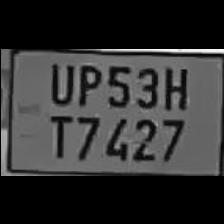2: (128, 113, 156, 161)
3: (131, 61, 159, 109)
4: (100, 110, 128, 162)
5: (102, 58, 132, 106)
7: (70, 110, 98, 162), (155, 113, 184, 163)
H: (158, 61, 190, 111)
P: (73, 58, 101, 108)
T: (43, 108, 71, 160)
U: (44, 56, 72, 104)
